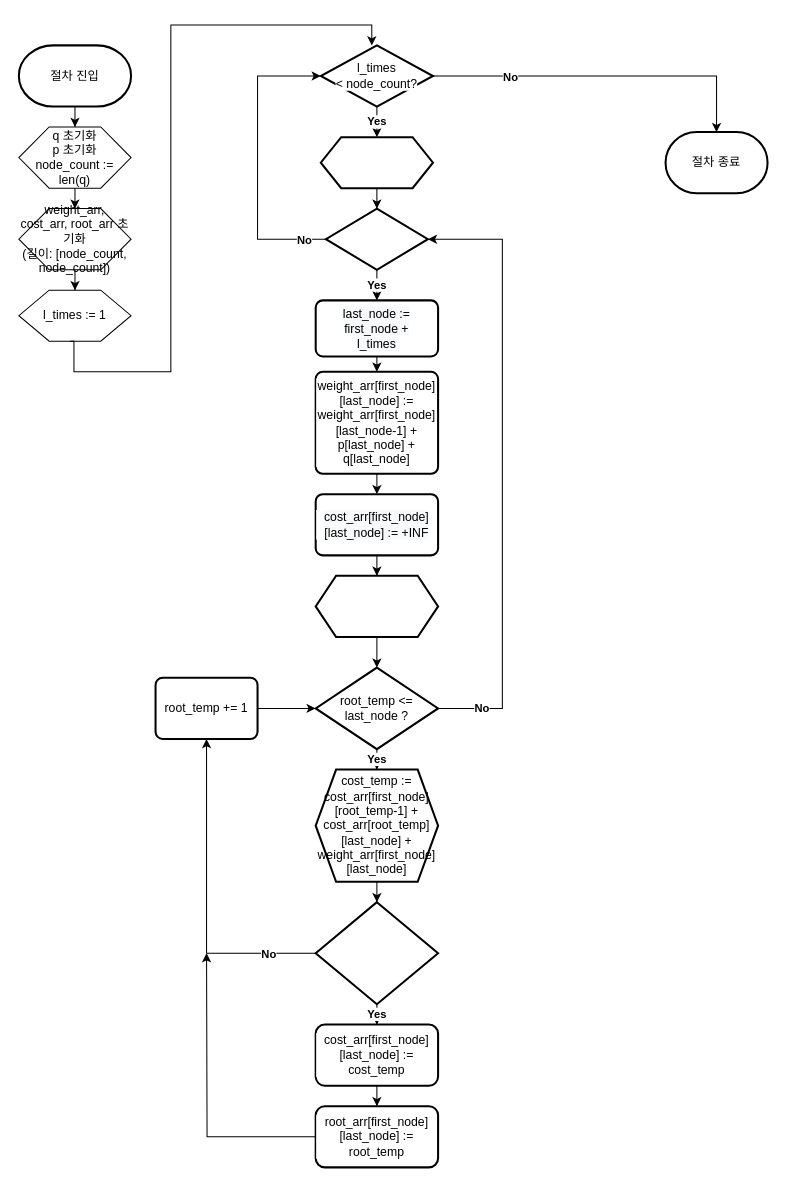
Some shapes in this 785 by 1186 pixel diagram are drawn without their labels. The centre of each missing label's shape, as x and y in pixels:
cost_temp < cost_arr[first_node][last_node] ?: the point at 376,953
first_node < node_count - l_times ?: the point at 376,238
first_node = 0: the point at 376,162
root_temp := first_node + 1: the point at 376,606
